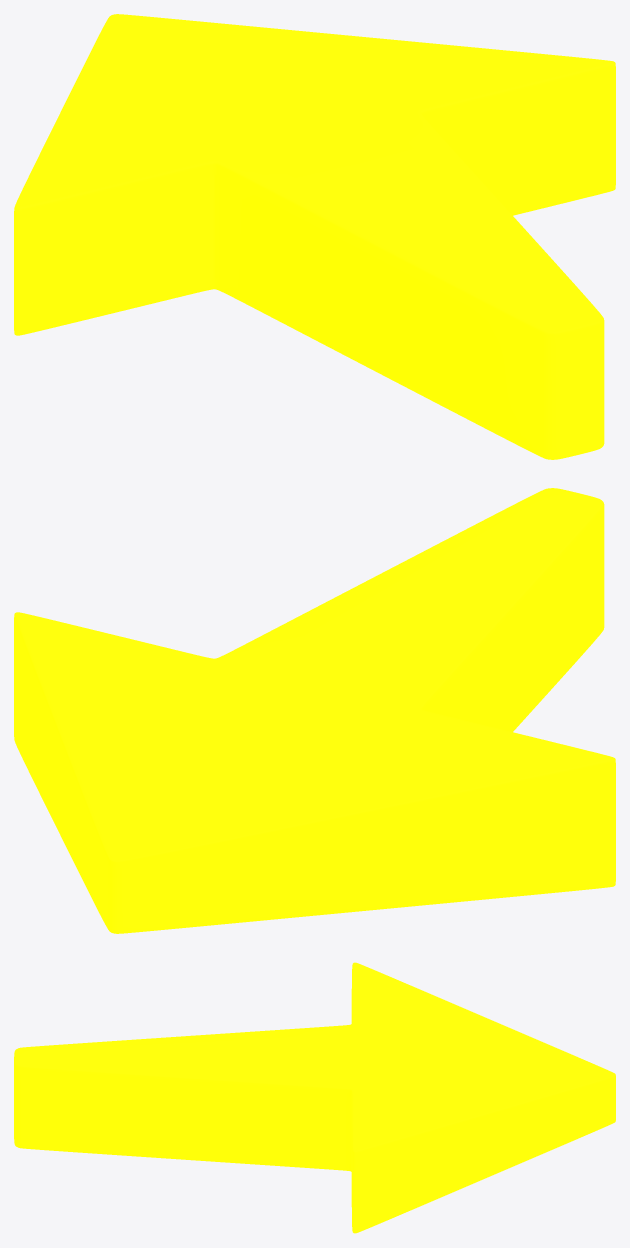
The model's file is arrow2.fbx.
3 views of the same model, one above another, from view 1: azimuth 30°, elevation 25°; view 2: azimuth 150°, elevation 25°; view 3: azimuth 270°, elevation 25° (orthographic). The views are drawn at different scales.
Parts seen in each view (by area): view 1: arrow 1; view 2: arrow 1; view 3: arrow 1.
Boxes of the visible parts, box(x1,y1,x2,y2) form: arrow 1: box(14, 14, 615, 459); arrow 1: box(14, 488, 615, 933); arrow 1: box(14, 962, 615, 1233).
Size of the model in its own units: 53.39 by 10.9 by 71.7.
